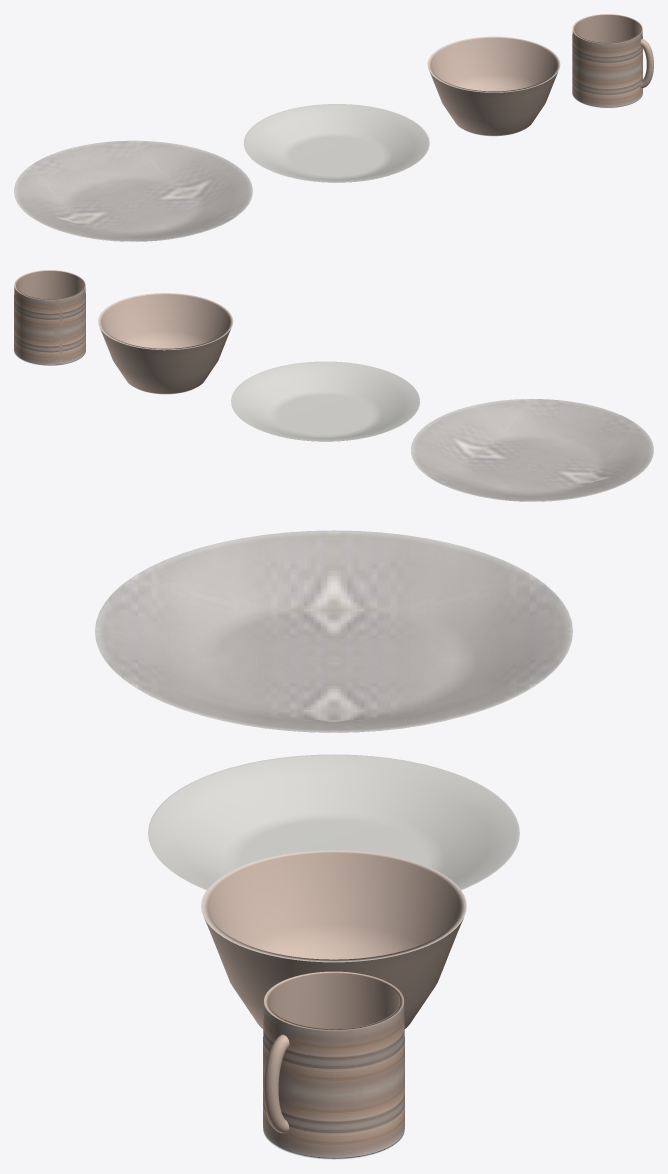
File: EST-03.glb
3 views of the same model, one above another, from view 1: azimuth 30°, elevation 25°; view 2: azimuth 150°, elevation 25°; view 3: azimuth 270°, elevation 25° (orthographic). The views are drawn at different scales.
Size of the model in its own units: 0.7933 by 0.08 by 0.27.
9 materials, 7 textured.
